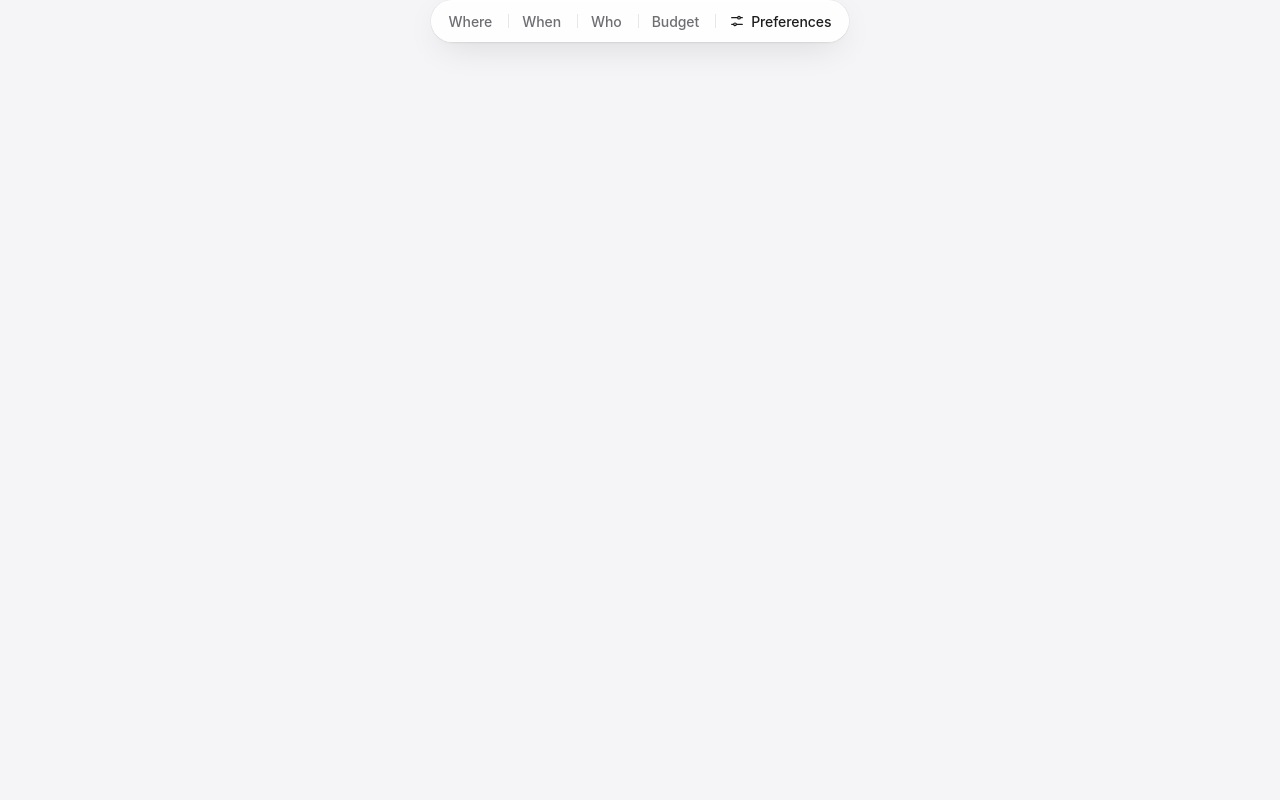
Scenario: TripFactChips › opens a labelled editor for one fact, focuses its field and returns focus on Escape
This screenshot has width=1280, height=800.
Step 1. Click the button "Where" → (470, 21), box [435, 4, 506, 38]
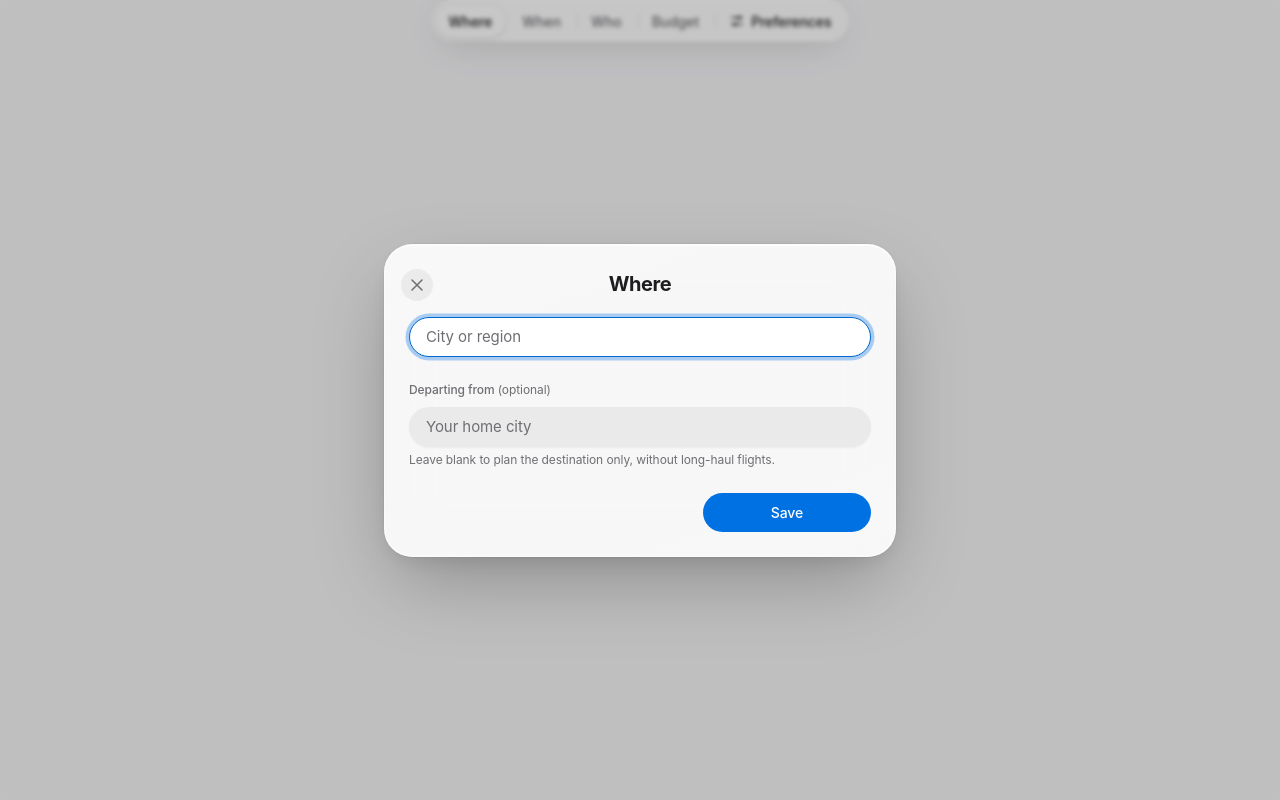
Now the button "Where" is expanded, box [435, 4, 506, 38]
Step 2. Press Escape
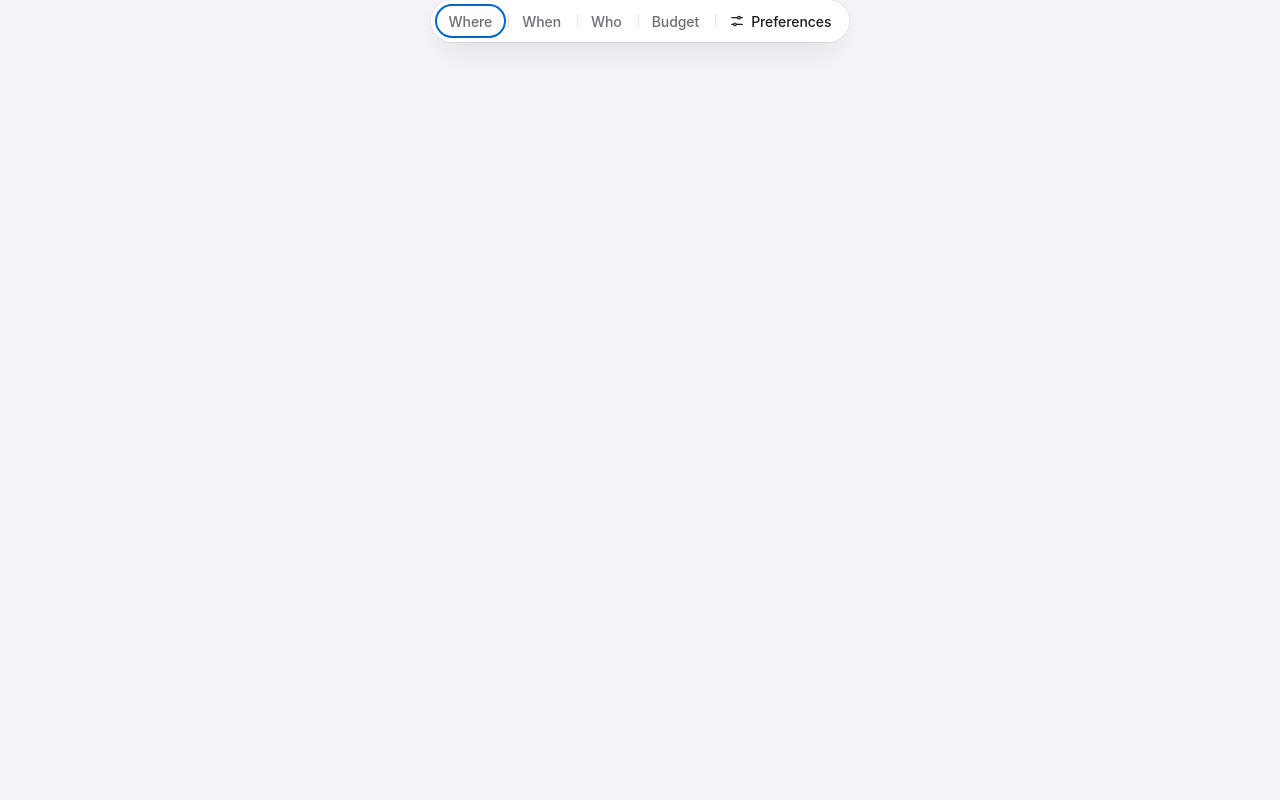
Expected: the button "Where" is shown, [435, 4, 506, 38]
Now the dialog is gone
